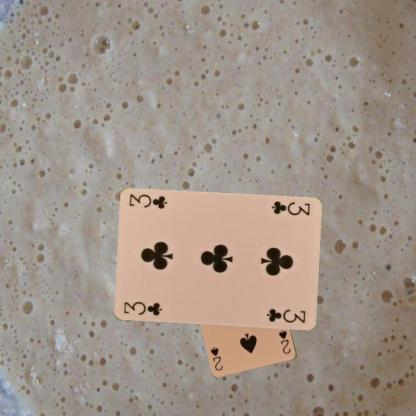2s: (276, 328, 292, 355)
3c: (269, 198, 311, 217), (121, 299, 163, 317)
